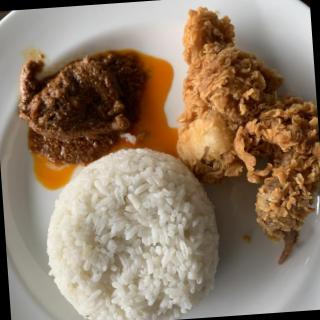Nasi: (39, 146, 223, 320)
